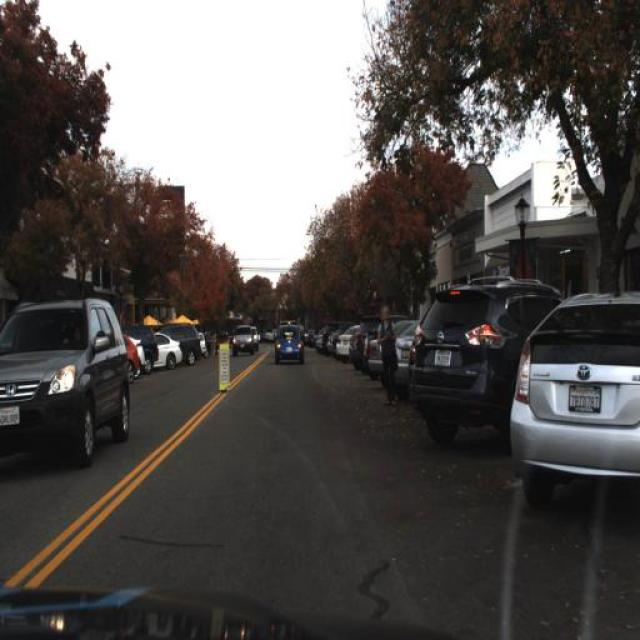car: (405, 270, 571, 456), (510, 291, 640, 513), (0, 297, 132, 463), (100, 322, 206, 372), (272, 321, 304, 363), (230, 324, 256, 358)
trafficLight: (375, 300, 399, 402)
